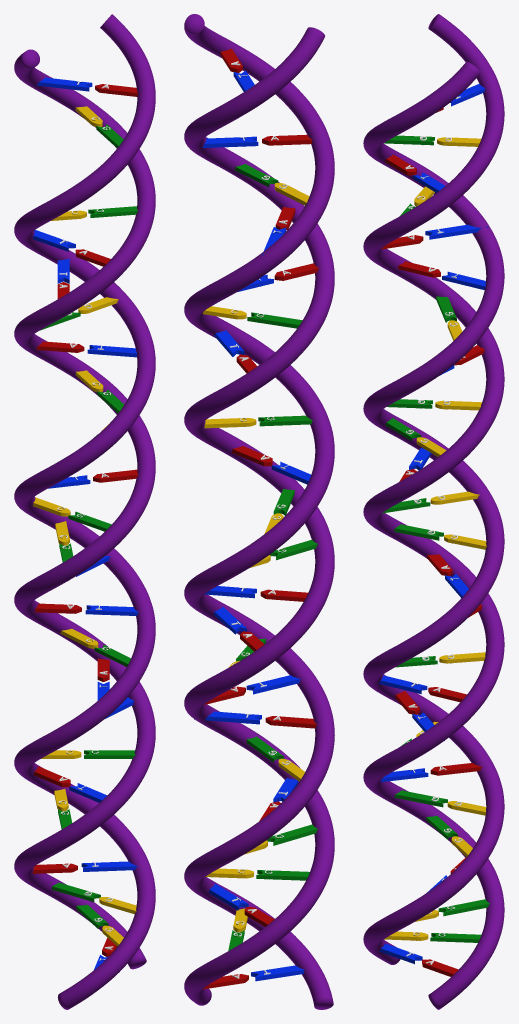
The model's file is dna.glb.
3 renders of one model, left to right at view 1: azimuth 30°, elevation 25°; view 2: azimuth 150°, elevation 25°; view 3: azimuth 270°, elevation 25°, orthographic. The views are drawn at different scales.
Parts seen in each view (by area): view 1: dna_chain; view 2: dna_chain; view 3: dna_chain.
Boxes of the visible parts, x1,y1,x2,y2 form: dna_chain: (14, 14, 155, 1009); dna_chain: (184, 14, 334, 1009); dna_chain: (363, 14, 504, 1009).
Size of the model in its own units: 0.0841 by 0.619 by 0.0841.
1 material, 1 textured.
